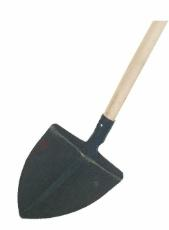PELLE: (15, 4, 167, 230)
